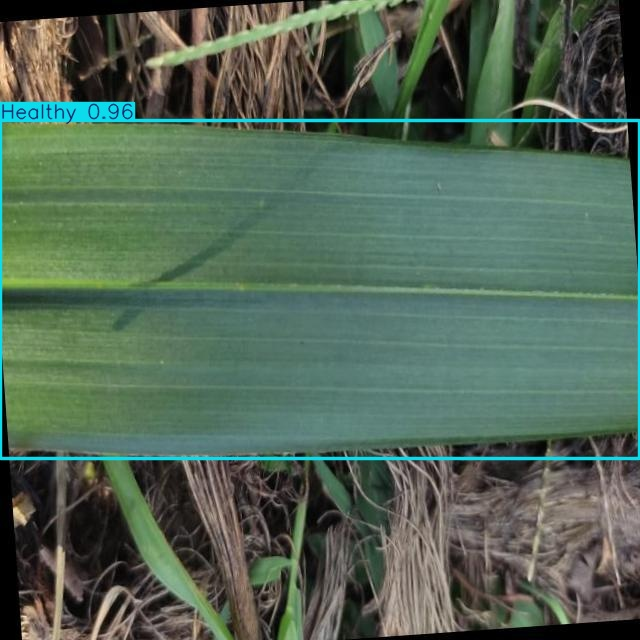Healthy: (0, 120, 640, 459)
